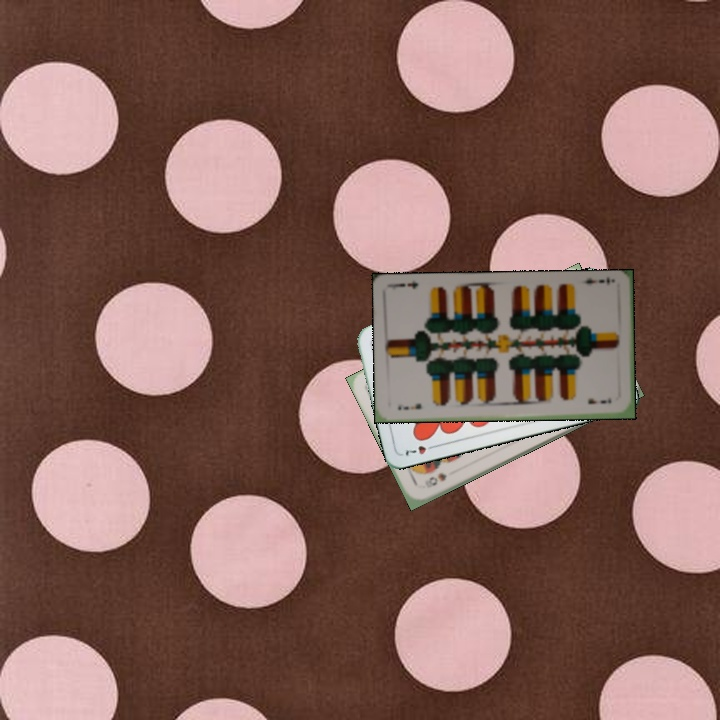E7: (576, 273, 612, 287), (394, 399, 424, 413)
H7: (401, 441, 439, 458)
S8: (421, 469, 450, 491)
